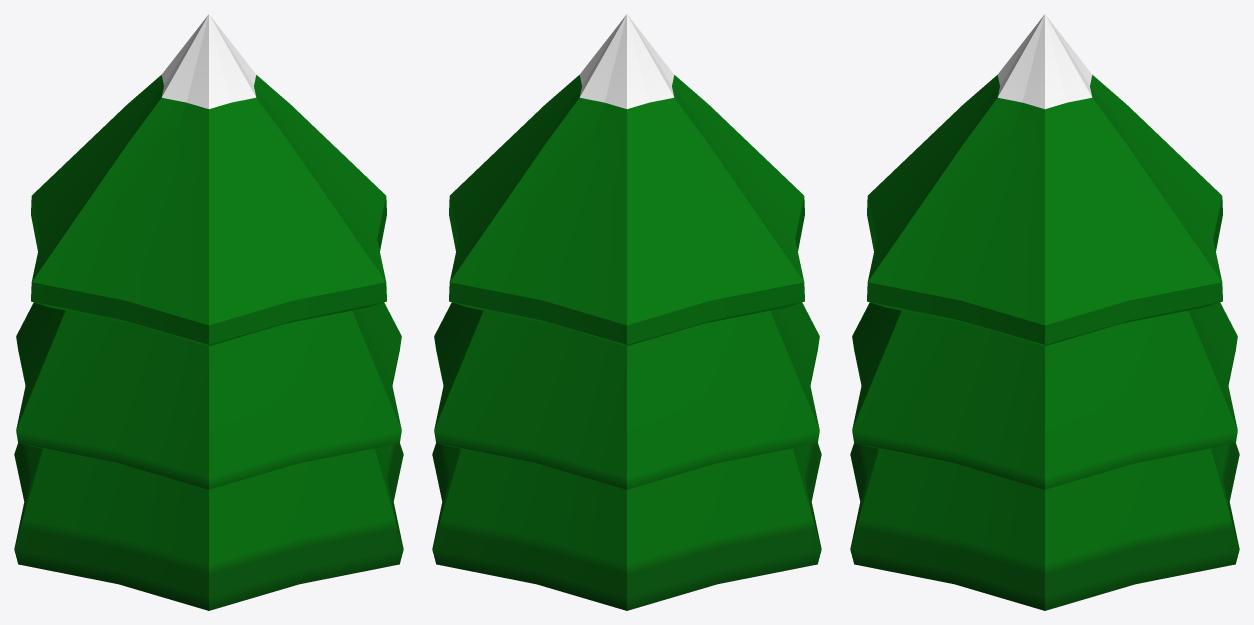
The model's file is Tree.fbx.
The picture shows the model from 3 angles, left to right: view 1: azimuth 30°, elevation 25°; view 2: azimuth 150°, elevation 25°; view 3: azimuth 270°, elevation 25°; orthographic projection.
Parts seen in each view (by area): view 1: Tree; view 2: Tree; view 3: Tree.
Boxes of the visible parts, x1,y1,x2,y2 form: Tree: [14, 14, 403, 610]; Tree: [432, 14, 821, 610]; Tree: [850, 14, 1239, 610].
Size of the model in its own units: 163 by 204 by 141.
